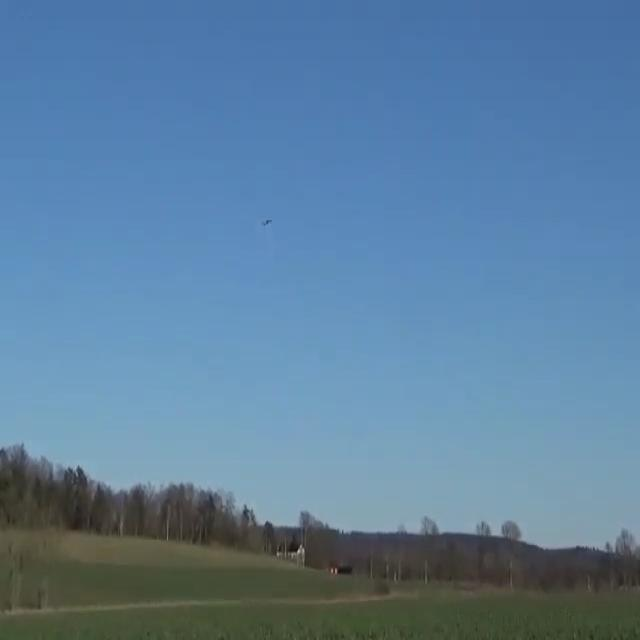Drone: (251, 208, 281, 240)
